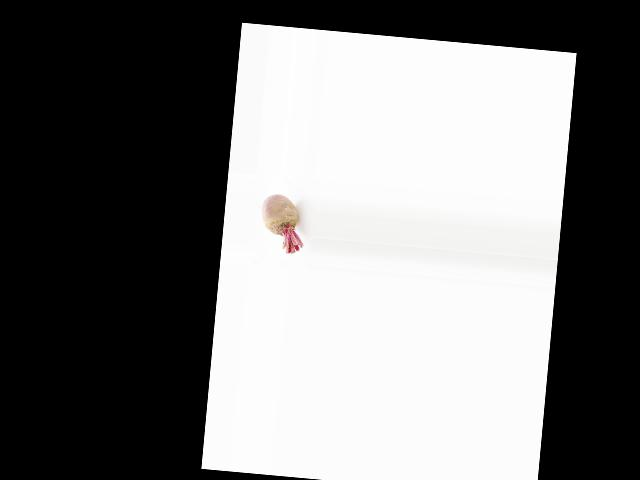beet: (258, 192, 308, 254)
